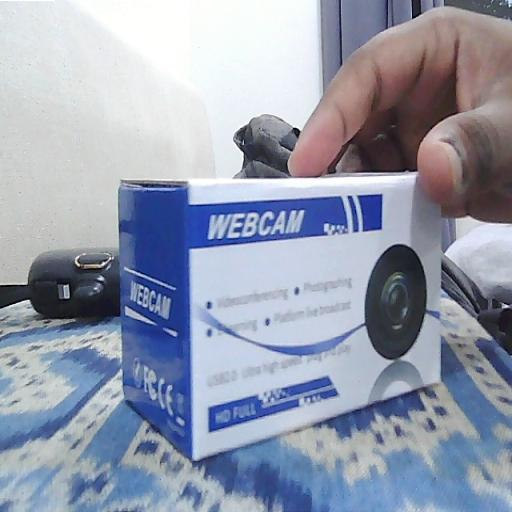webcam_box: (116, 170, 444, 463)
